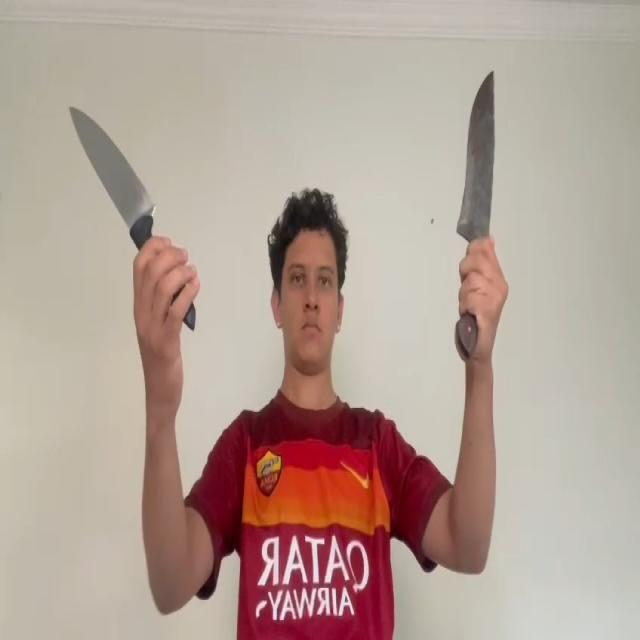knife: (69, 105, 156, 219), (456, 69, 496, 238)
